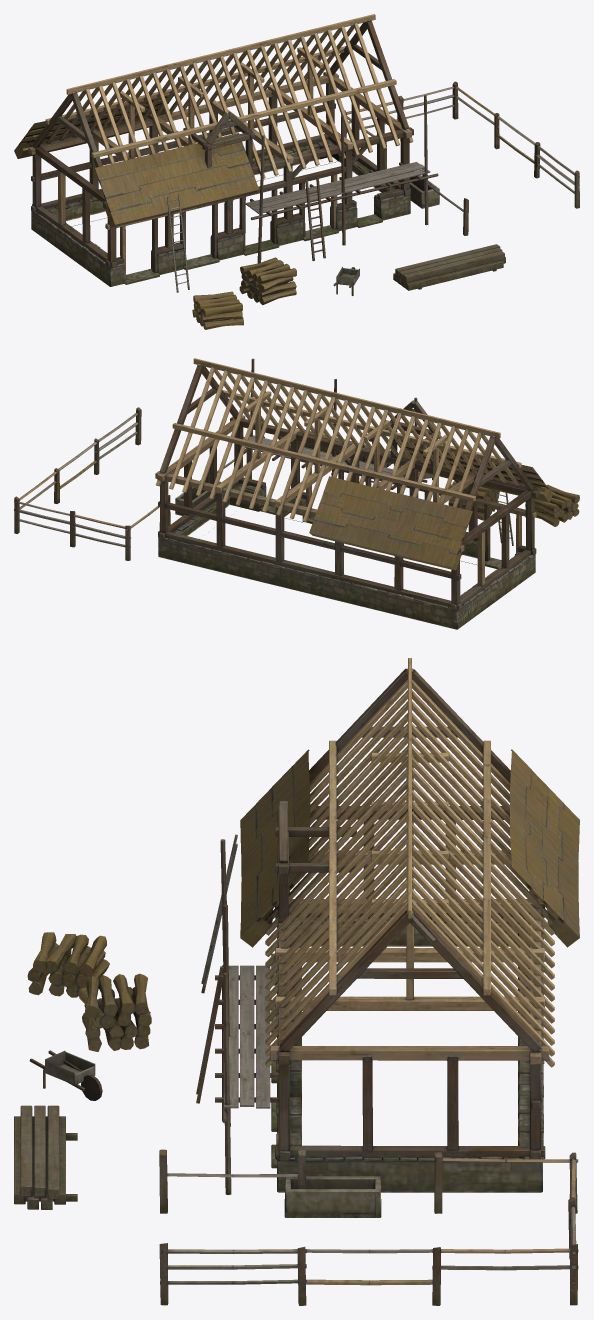
The model's file is stables_build2.glb.
3 renders of one model, top to bottom at view 1: azimuth 30°, elevation 25°; view 2: azimuth 150°, elevation 25°; view 3: azimuth 270°, elevation 25°, orthographic. The views are drawn at different scales.
Parts seen in each view (by area): view 1: stables_build2_LOD0; view 2: stables_build2_LOD0; view 3: stables_build2_LOD0.
Part boxes in pixels (bbox=[...]): stables_build2_LOD0: bbox=[14, 14, 579, 329]; stables_build2_LOD0: bbox=[14, 358, 579, 629]; stables_build2_LOD0: bbox=[14, 658, 579, 1305].
Size of what is drawn, in the model's own units: 17.82 by 6.6 by 11.75.
Materials: 1 (1 with a texture image).
